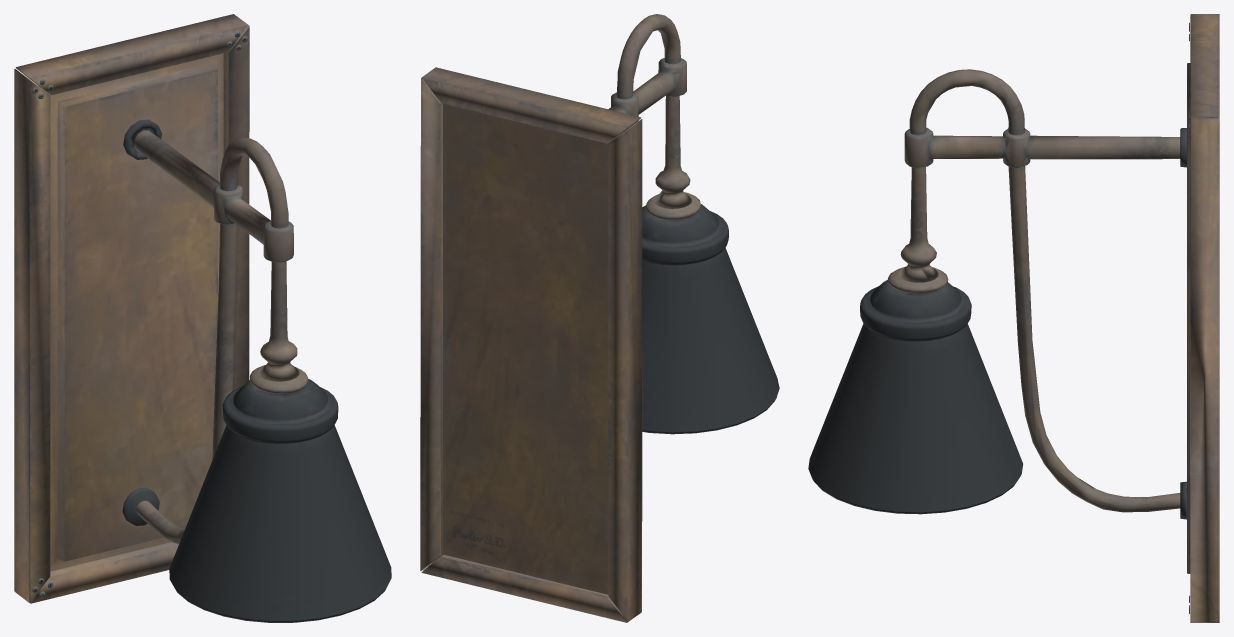
File: industrial_wall_sconce.glb
The picture shows the model from 3 angles, left to right: view 1: azimuth 30°, elevation 25°; view 2: azimuth 150°, elevation 25°; view 3: azimuth 270°, elevation 25°; orthographic projection. The views are drawn at different scales.
Parts seen in each view (by area): view 1: industrial_wall_sconce; view 2: industrial_wall_sconce; view 3: industrial_wall_sconce.
Boxes of the visible parts, x1=… form: industrial_wall_sconce: x1=14, y1=14, x2=391, y2=622; industrial_wall_sconce: x1=420, y1=14, x2=779, y2=622; industrial_wall_sconce: x1=808, y1=14, x2=1219, y2=622.
Size of the model in its own units: 0.15 by 0.3413 by 0.2513.
Materials: 2 (2 with a texture image).
